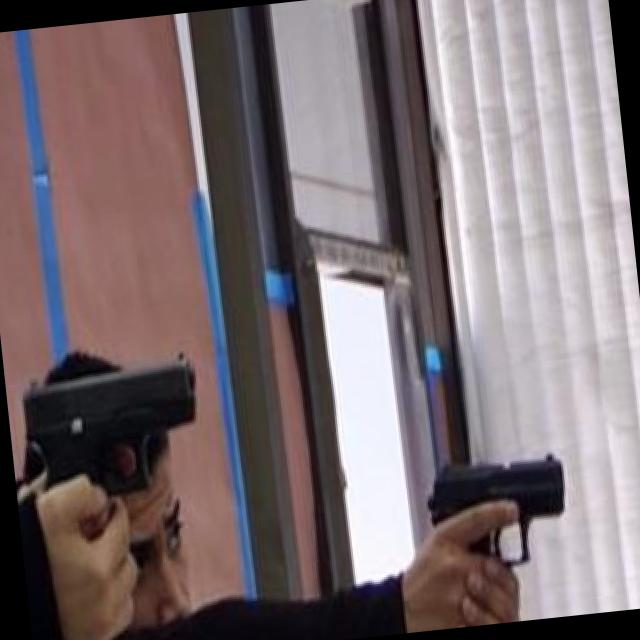Guns: (0, 316, 221, 544), (402, 403, 598, 630)
